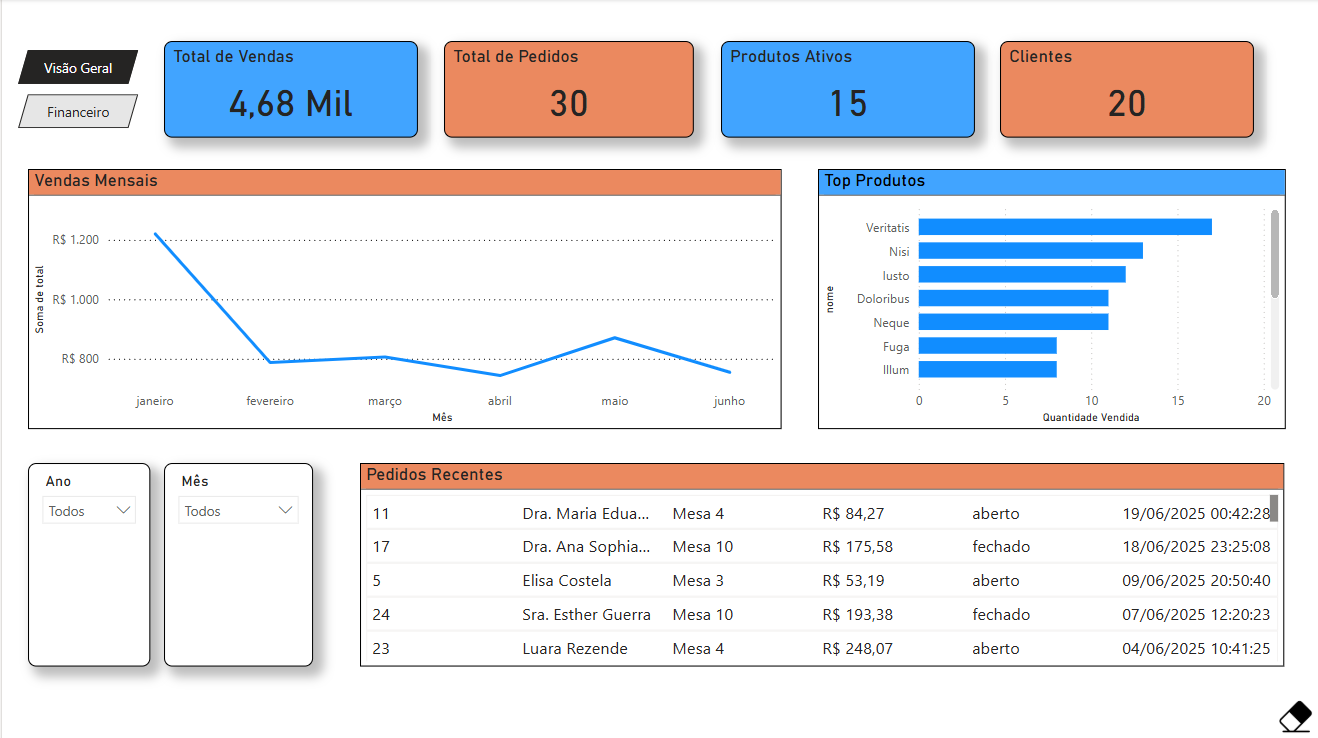

This screenshot's page, from the dashboard's own definition file:
{"tool":"powerbi","page":{"name":"Visão Geral","canvas":[1280,720],"ordinal":0},"visuals":[{"type":"card","title":"Total de Vendas","fields":{"Values":["Sum(public pagamentos.valor_pago)"]},"box":[157.3,40.8,246.7,94.2],"z":0},{"type":"card","title":"Total de Pedidos","fields":{"Values":["CountNonNull(public pedidos.id)"]},"box":[430.2,40.8,242.8,94.2],"z":1000},{"type":"lineChart","title":"Vendas Mensais","fields":{"Y":["Sum(public pedidos.total)"],"Category":["public pedidos.data.Variation.Hierarquia de datas.Mês"]},"box":[25.3,165.1,733.2,252.5],"z":2000},{"type":"slicer","fields":{"Values":["public pedidos.data.Variation.Hierarquia de datas.Ano"]},"box":[25.3,451.6,119.5,198.1],"z":3000},{"type":"slicer","fields":{"Values":["public pedidos.data.Variation.Hierarquia de datas.Mês"]},"box":[157.3,451.6,144.7,198.1],"z":4000},{"type":"card","title":"Clientes","fields":{"Values":["CountNonNull(public clientes.id)"]},"box":[971.2,40.8,246.7,94.2],"z":5000},{"type":"card","title":"Produtos Ativos","fields":{"Values":["CountNonNull(public produtos.id)"]},"box":[699.2,40.8,246.7,94.2],"z":6000},{"type":"clusteredBarChart","title":"Top Produtos","fields":{"Category":["public produtos.nome"],"Y":["Medida.Quantidade Vendida"]},"box":[793.4,165.1,454.5,252.5],"z":7000},{"type":"multiRowCard","title":"Pedidos Recentes","fields":{"Values":["public itens_pedido.id_pedido","public clientes.nome","public mesas.nome","Sum(public pedidos.total)","public pedidos.status","public pedidos.data"]},"box":[348.6,451.6,899.3,198.1],"z":8000},{"type":"pageNavigator","box":[15.5,49.5,117.5,76.7],"z":9000},{"type":"image","box":[1236.2,676,43.8,43.8],"z":9001}]}

Visuals, with their boxes in screenshot pixels (x1, y1, x2, y2), scaled from the page's 1280x720 canvas onto the 1318x738 screenshot:
"Total de Vendas" card: <region>162, 42, 416, 138</region>
"Total de Pedidos" card: <region>443, 42, 693, 138</region>
"Vendas Mensais" lineChart: <region>26, 169, 781, 428</region>
slicer - public pedidos.data.Variation.Hierarquia de datas.Ano: <region>26, 463, 149, 666</region>
slicer - public pedidos.data.Variation.Hierarquia de datas.Mês: <region>162, 463, 311, 666</region>
"Clientes" card: <region>1000, 42, 1254, 138</region>
"Produtos Ativos" card: <region>720, 42, 974, 138</region>
"Top Produtos" clusteredBarChart: <region>817, 169, 1285, 428</region>
"Pedidos Recentes" multiRowCard: <region>359, 463, 1285, 666</region>
pageNavigator: <region>16, 51, 137, 129</region>
image: <region>1273, 693, 1317, 737</region>
